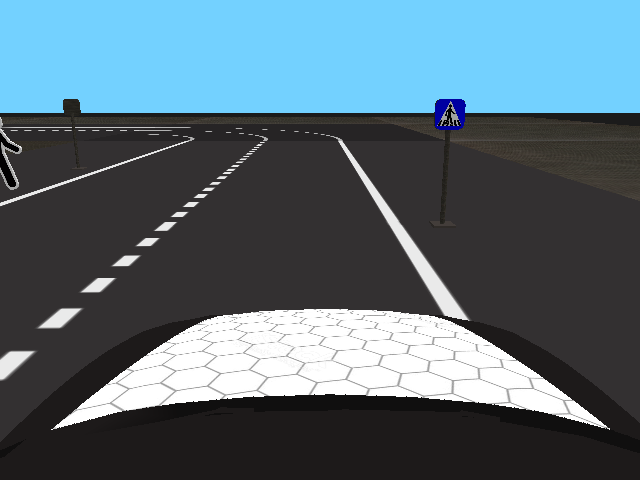pedestrian_cross: (434, 99, 466, 132)
